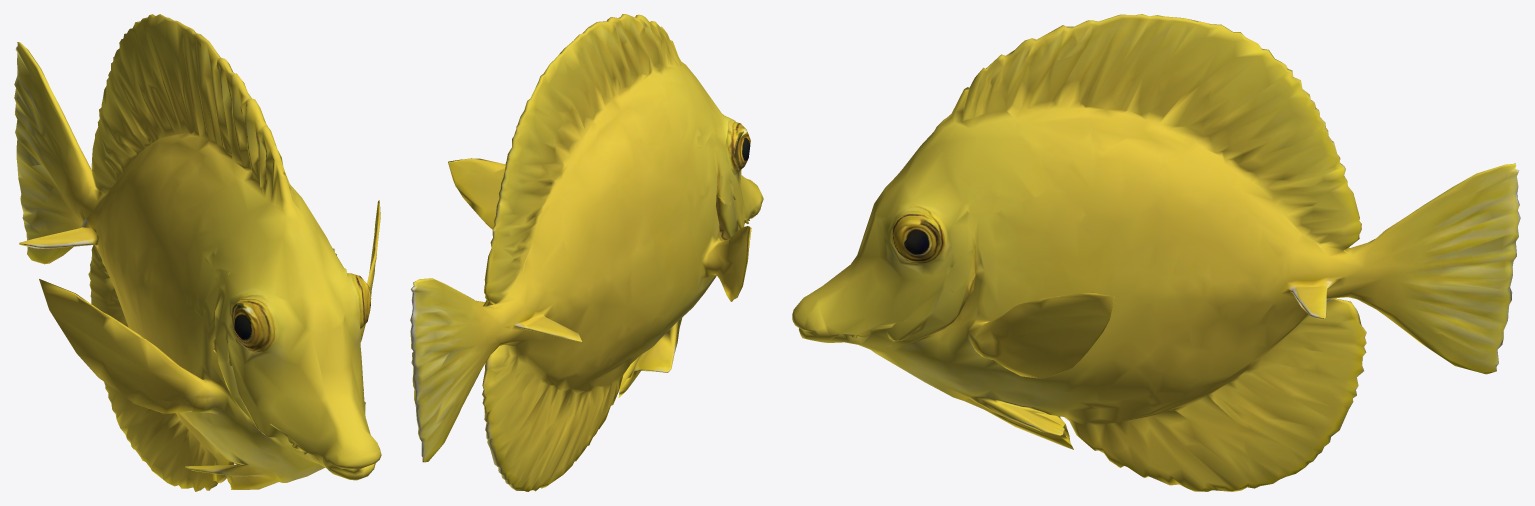
The model's file is yellowtang.glb.
3 views of the same model, side by side, from view 1: azimuth 30°, elevation 25°; view 2: azimuth 150°, elevation 25°; view 3: azimuth 270°, elevation 25° (orthographic). The views are drawn at different scales.
Visible parts, largest first — view 1: tripo_node_c9c78dc0-8d3b-4cf7-9d8b-c9806ed23500; view 2: tripo_node_c9c78dc0-8d3b-4cf7-9d8b-c9806ed23500; view 3: tripo_node_c9c78dc0-8d3b-4cf7-9d8b-c9806ed23500.
Part boxes in pixels (x1,y1,x2,y2): tripo_node_c9c78dc0-8d3b-4cf7-9d8b-c9806ed23500: [14, 14, 381, 491]; tripo_node_c9c78dc0-8d3b-4cf7-9d8b-c9806ed23500: [410, 14, 763, 491]; tripo_node_c9c78dc0-8d3b-4cf7-9d8b-c9806ed23500: [792, 14, 1520, 491].
Size of the model in its own units: 0.5379 by 0.7219 by 0.9997.
1 material, 1 textured.
